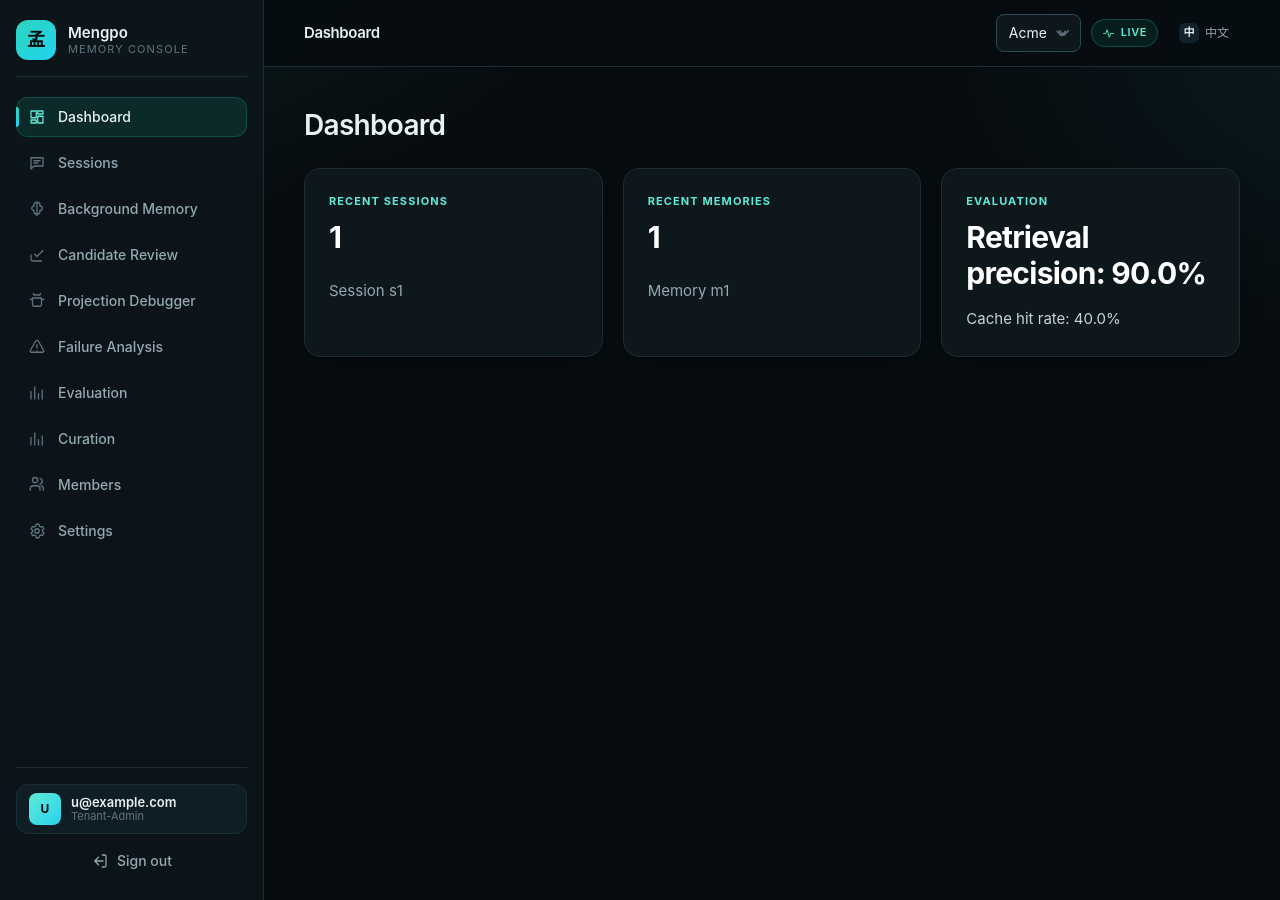
it: AppRoutes › navigates between console routes
Click the link "Projection Debugger".
click(112, 301)  # box [28,292,196,310]
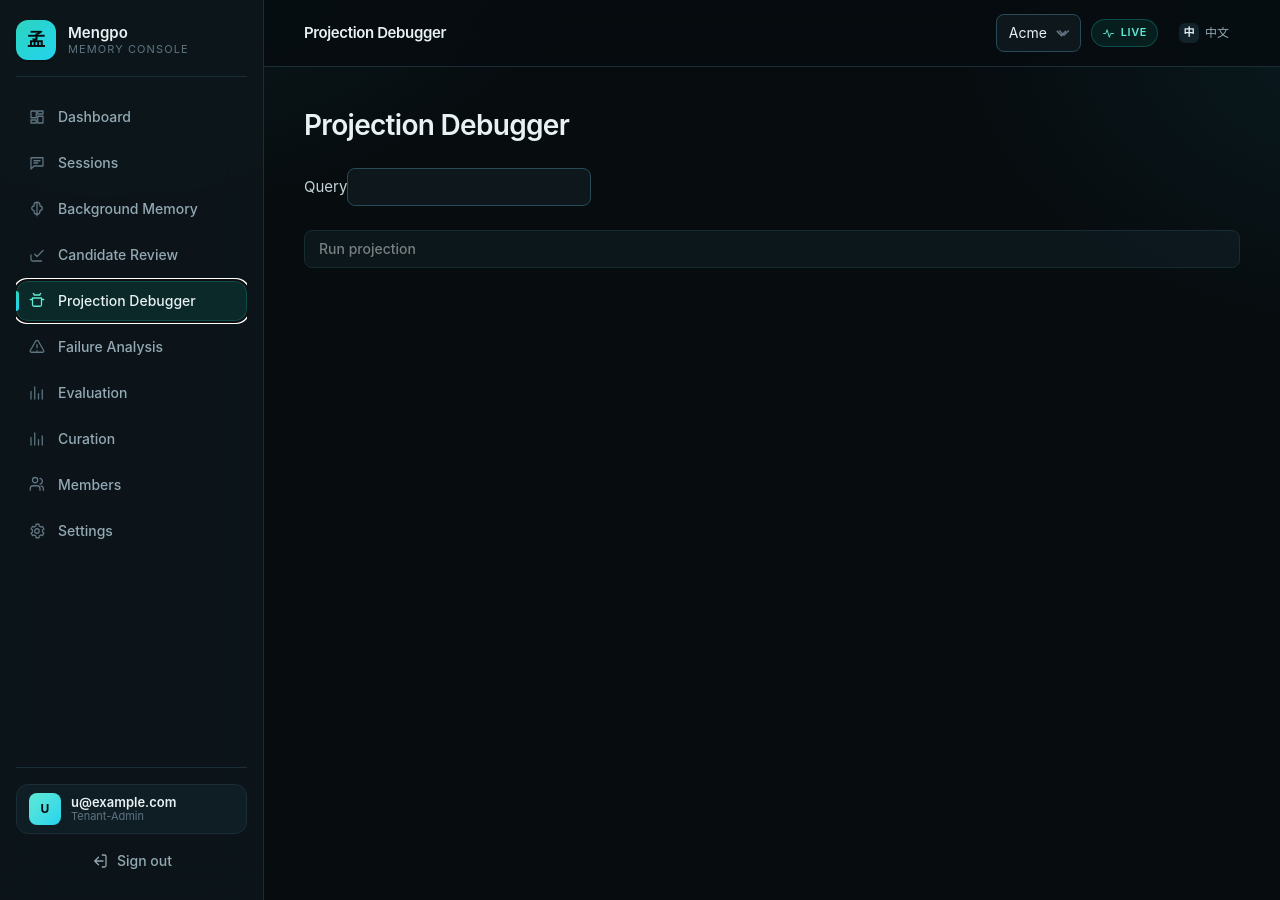
Expected: the heading "Projection Debugger" is shown, [304,108,569,142]
Click the link "Members".
click(75, 485)  # box [28,476,121,494]
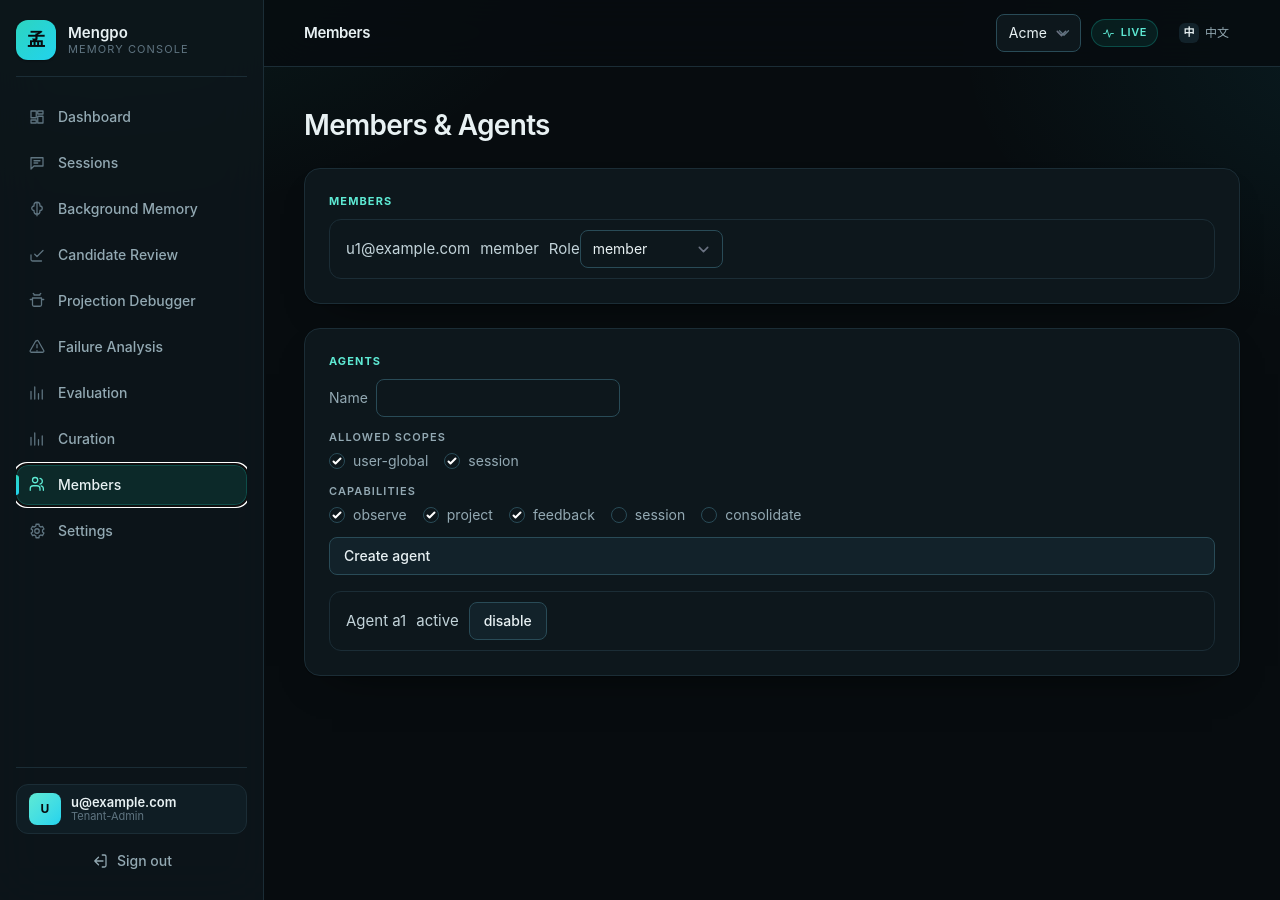
Expected: the heading "Members & Agents" is shown, [304,108,550,142]
